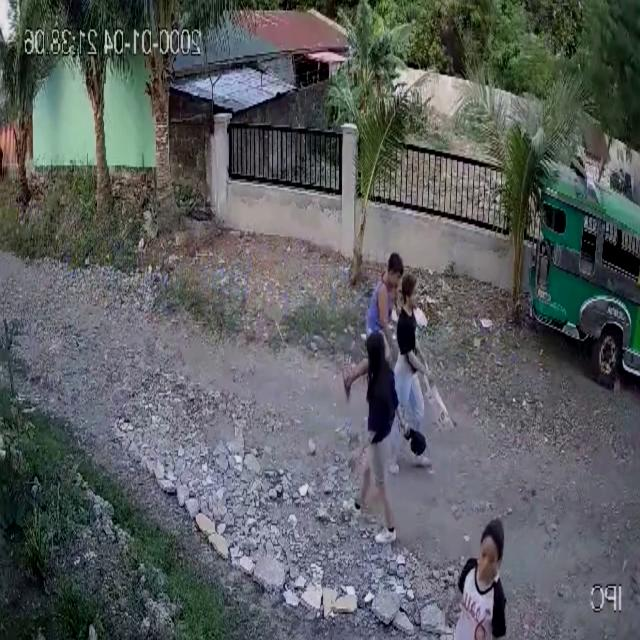walking: (385, 272, 457, 479), (339, 330, 400, 547), (448, 514, 508, 640)
